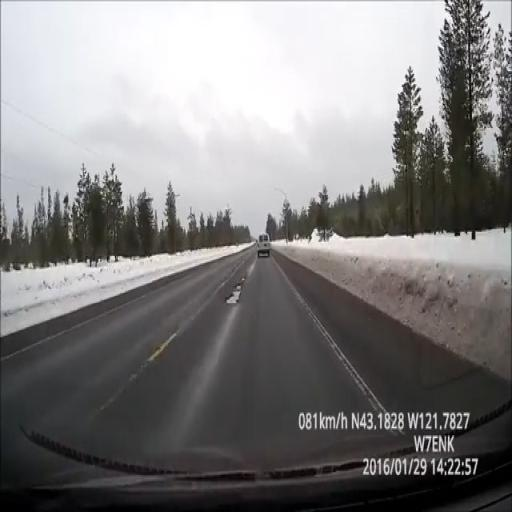Potholes: (226, 276, 246, 304)
